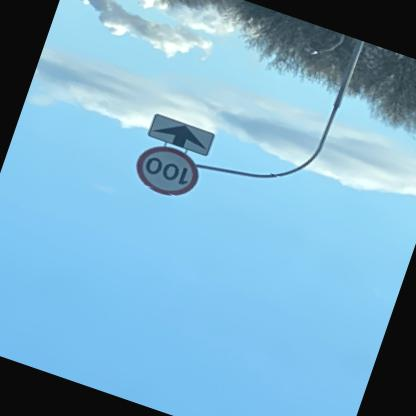speedlimit: (130, 140, 207, 206)
